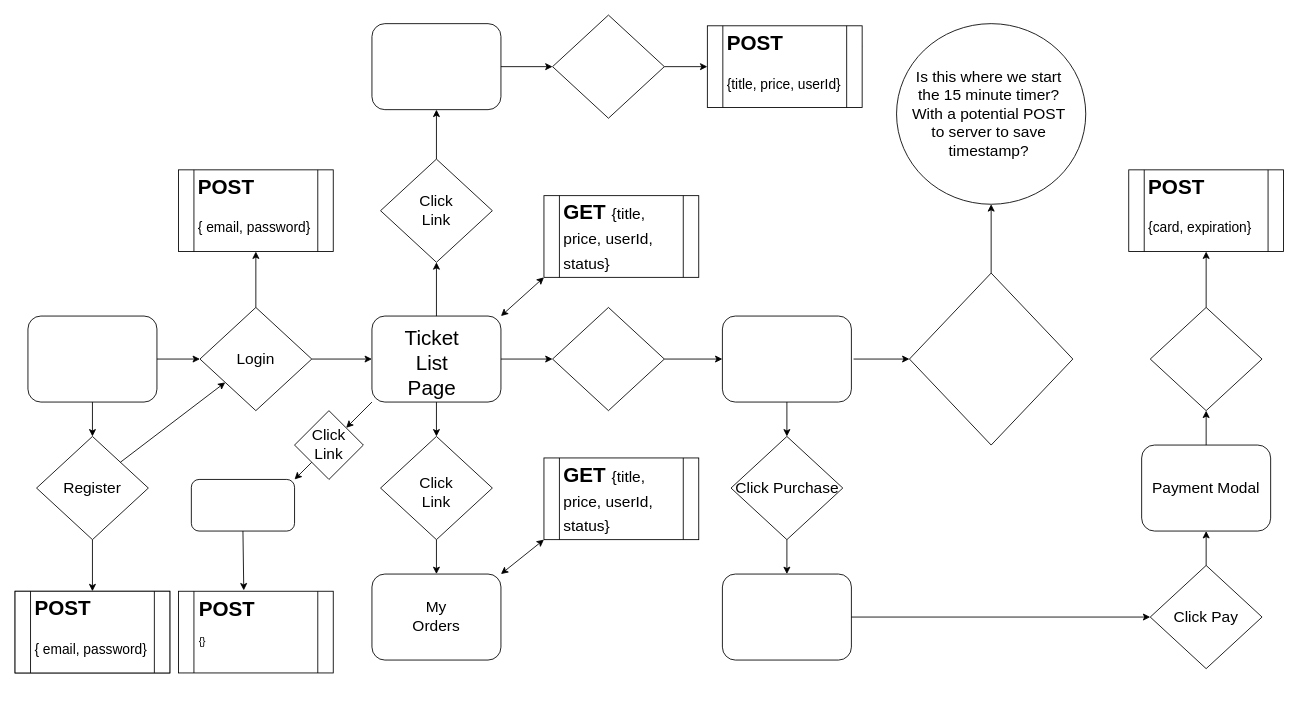
This 1305x710 diagram has some shape labels left out. Here are the shapes that lost their labels. From the top down, the centre of each, then its label:
At point 436,66: "Sell Tickets".
At point 608,66: "On Submit".
At point 92,358: "Welcome Page".
At point 608,359: "On Click a Ticket".
At point 786,358: "Ticket Detail Page".
At point 991,358: "Adds to my orders with default status".
At point 1205,359: "Click Submit".
At point 242,505: "Logout".
At point 786,616: "Ticket Payment Page".
